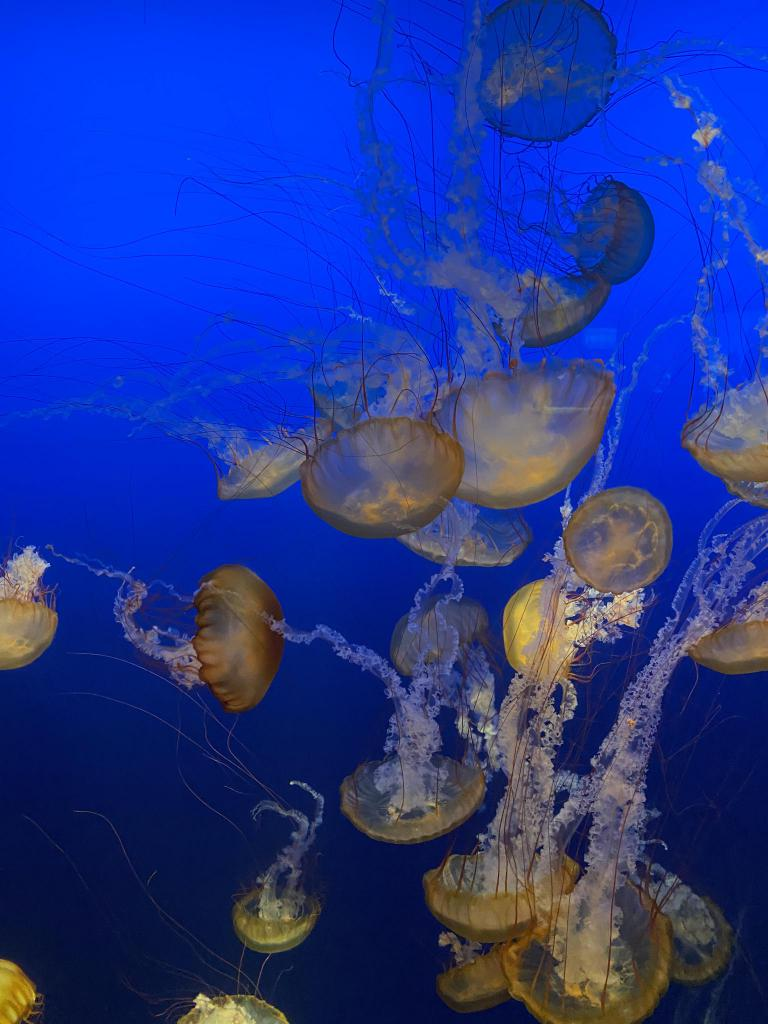jellyfish: (457, 0, 644, 168), (430, 358, 608, 510), (507, 868, 687, 1018), (308, 424, 470, 532), (426, 836, 584, 928), (342, 749, 494, 843), (200, 564, 290, 714), (630, 870, 744, 984), (554, 500, 678, 604), (564, 190, 666, 288), (484, 582, 580, 686), (396, 503, 534, 571), (681, 372, 767, 478), (484, 272, 618, 340), (684, 590, 768, 698), (208, 882, 338, 948), (429, 932, 547, 1002), (388, 592, 488, 668), (0, 583, 75, 674), (222, 443, 318, 507), (172, 986, 288, 1024), (0, 951, 40, 1023)
